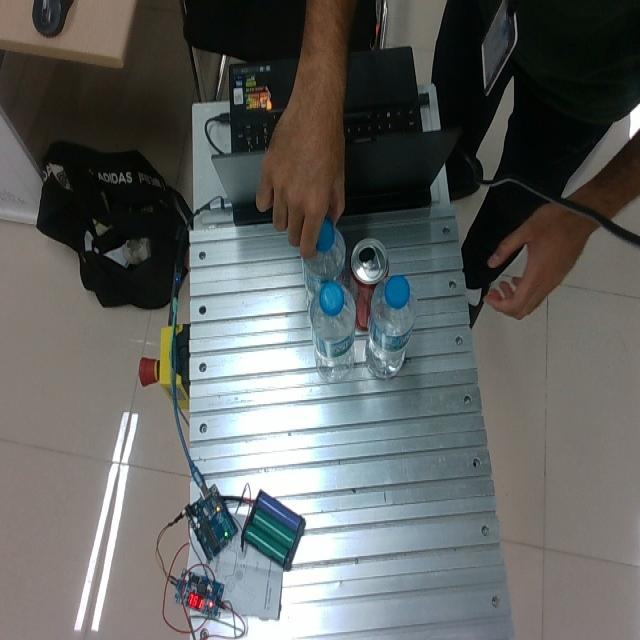coca: (349, 237, 389, 332)
lavie: (365, 276, 415, 380), (309, 280, 356, 383), (301, 221, 345, 307)
